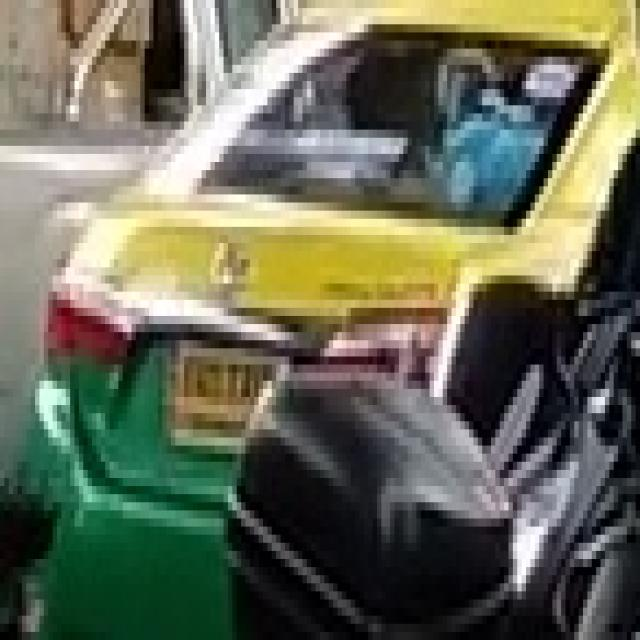door: (9, 0, 636, 632)
